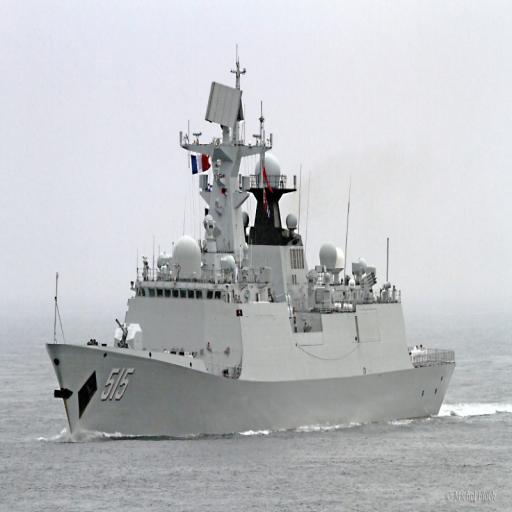Fragata: (44, 48, 460, 444)
